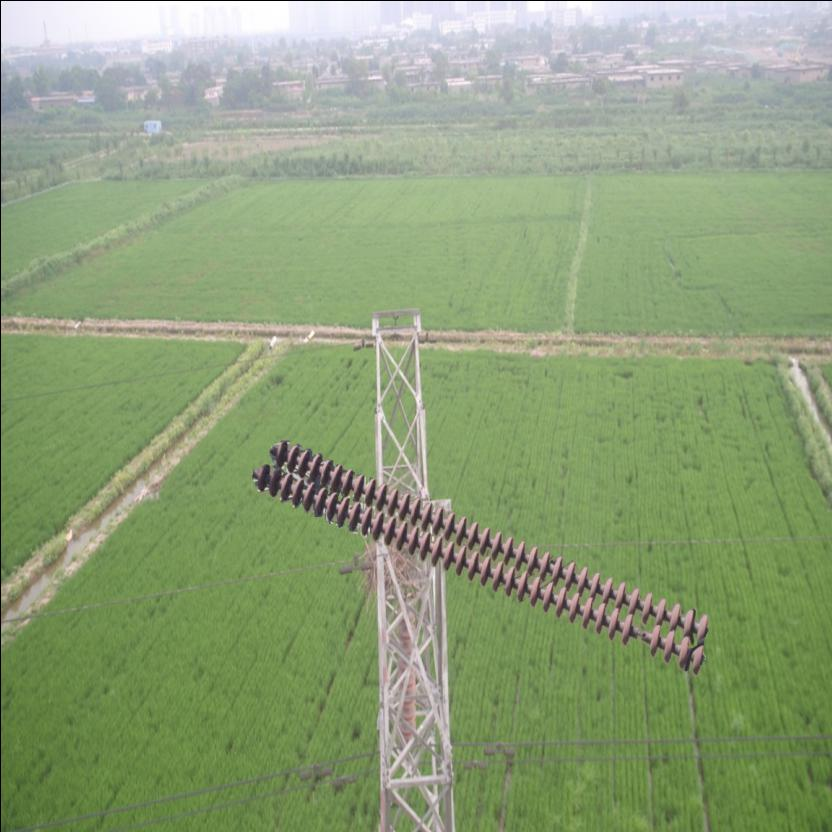defect: (616, 612, 662, 656)
